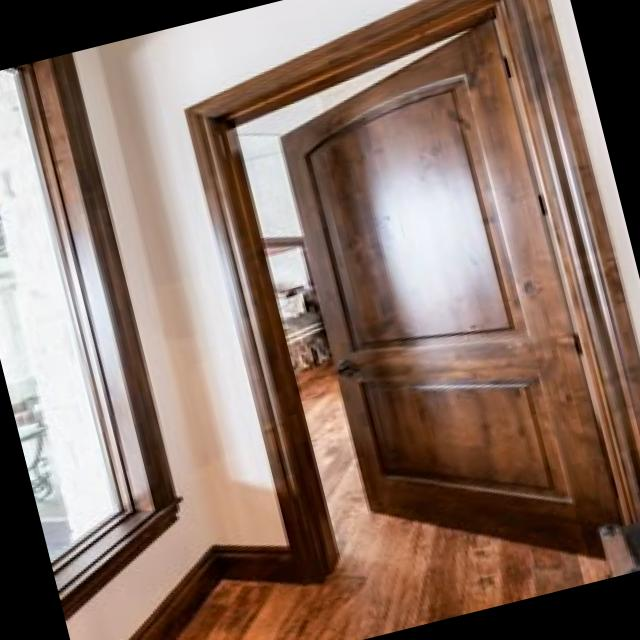door: (183, 0, 640, 587)
